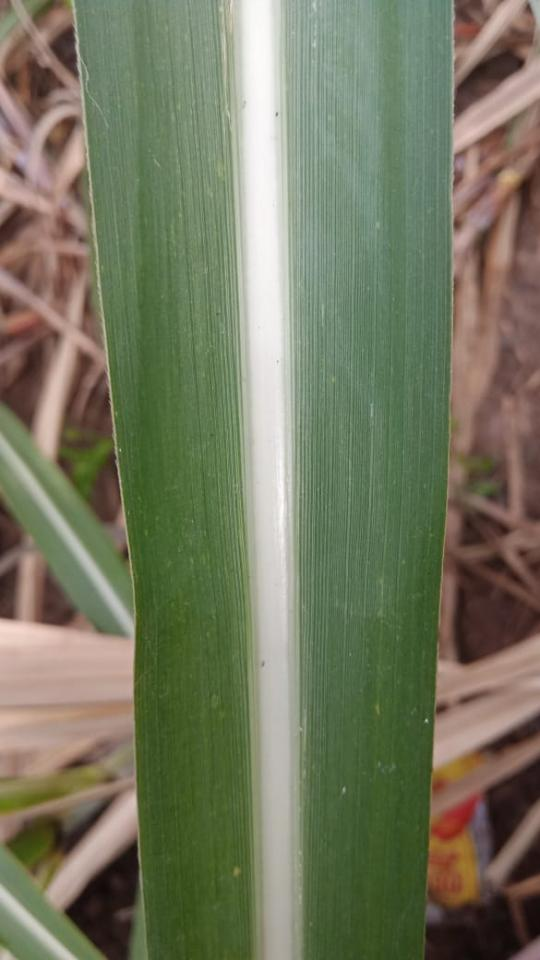Healthy: (75, 0, 450, 959)
